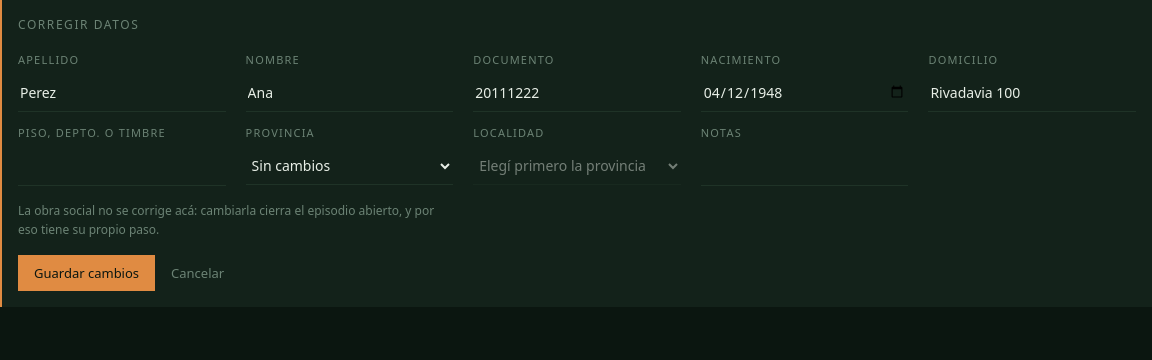
Test case: edit patient form › refuses to send an empty patch
The width and height of the screenshot is (1152, 360).
Click the button "Guardar cambios": point(87, 273) [18,255,155,291]
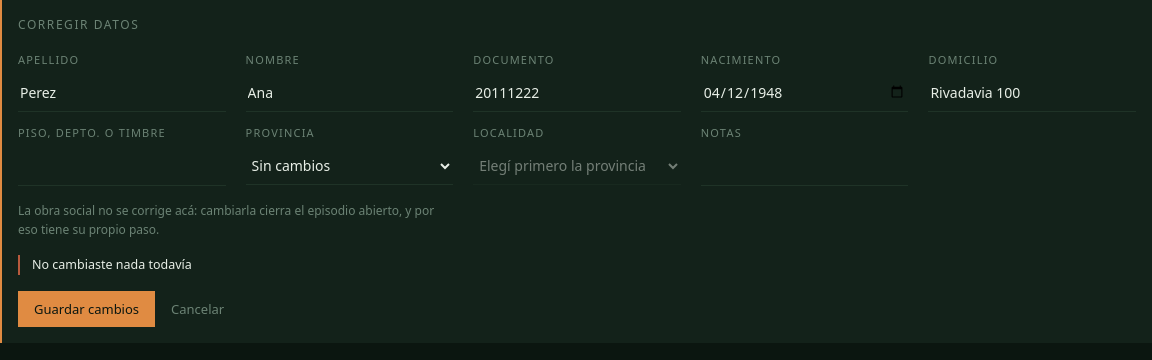
Check: the list item "No cambiaste nada todavía" is shown, box [32,256,192,273]
